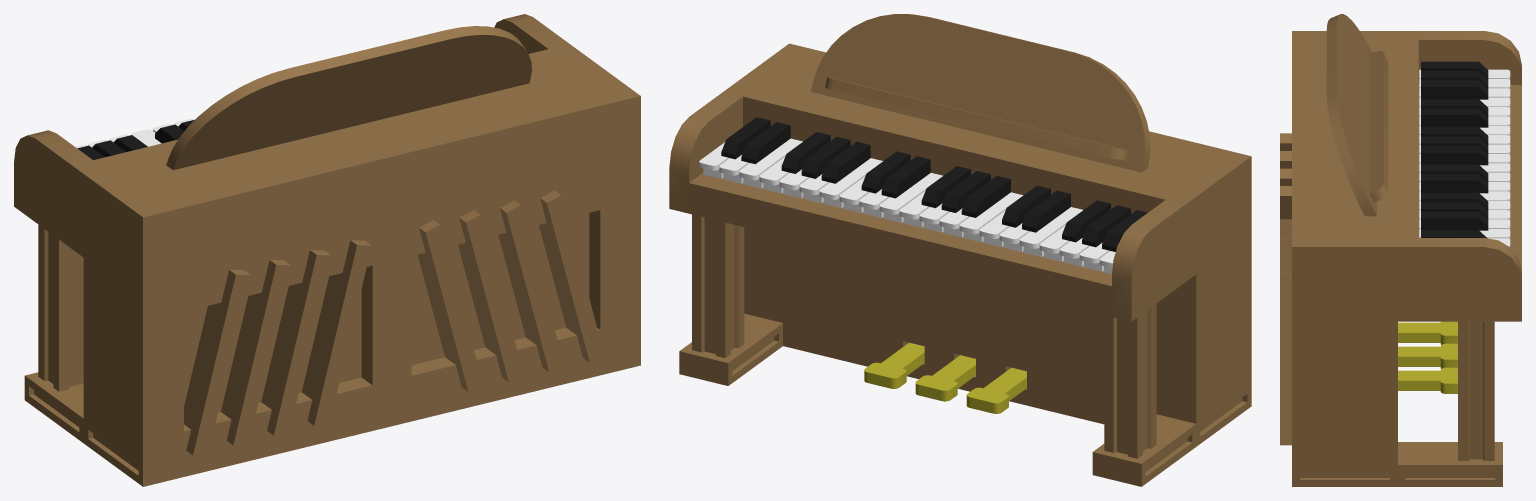
File: Piano.fbx
3 renders of one model, left to right at view 1: azimuth 30°, elevation 25°; view 2: azimuth 150°, elevation 25°; view 3: azimuth 270°, elevation 25°, orthographic. The views are drawn at different scales.
Visible parts, largest first — view 1: ElectricPiano, Keyboard; view 2: ElectricPiano, Keyboard, Pedals; view 3: ElectricPiano, Keyboard, Pedals.
Part boxes in pixels (x1,y1,x2,y2): ElectricPiano: (14,14,640,486); Keyboard: (75,117,197,160); ElectricPiano: (669,14,1251,486); Keyboard: (699,117,1147,274); Pedals: (864,342,1026,413); ElectricPiano: (1280,14,1521,486); Keyboard: (1419,61,1510,246); Pedals: (1398,321,1457,393).
Size of the model in its own units: 4.37 by 3.01 by 2.07.
